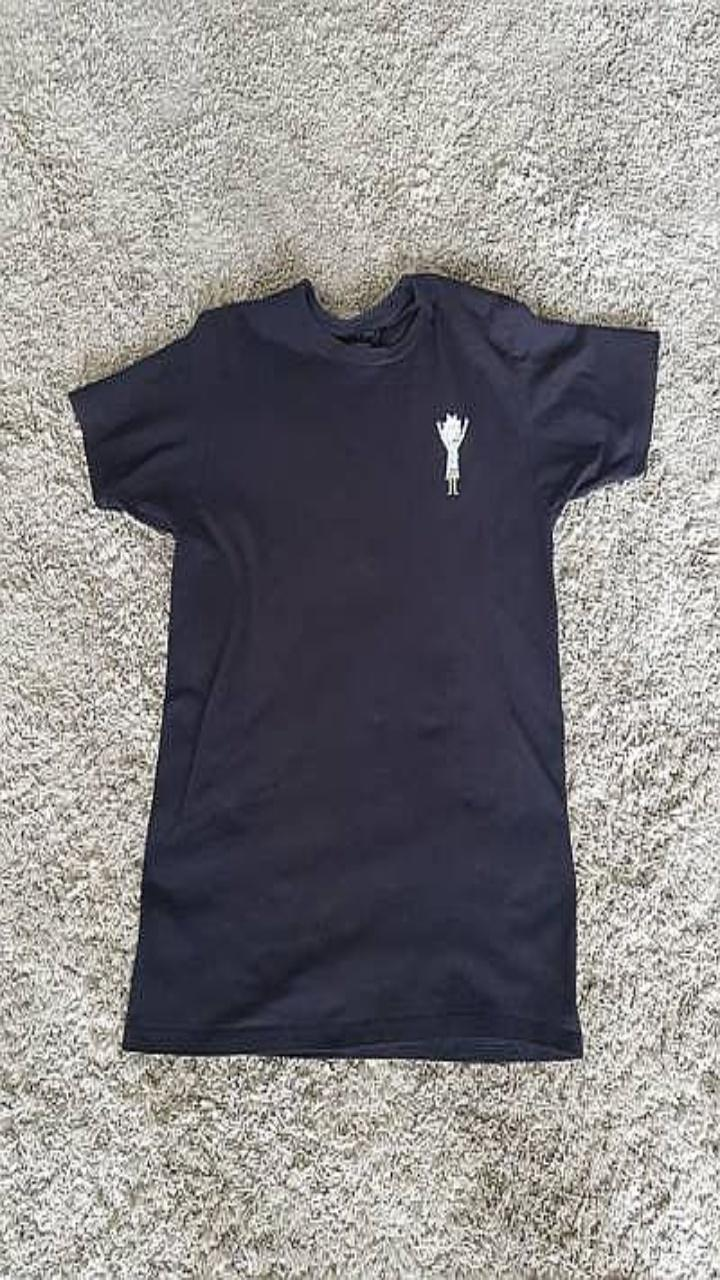T-Shirt: (68, 272, 659, 1061)
